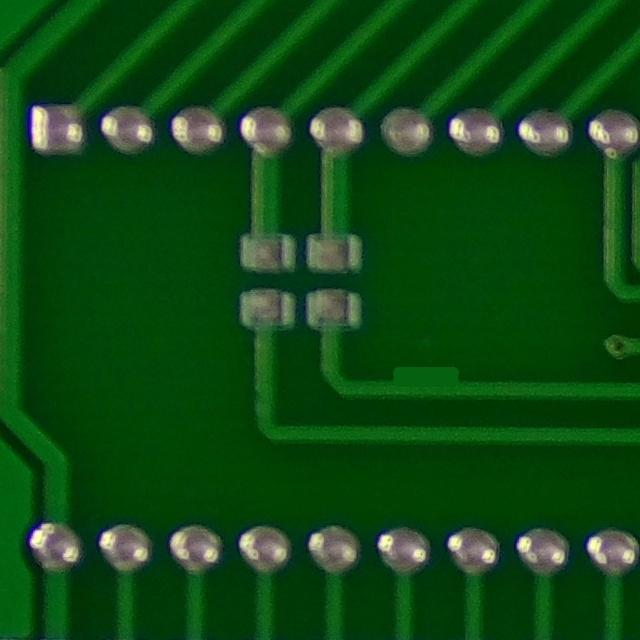spur: (373, 347, 477, 408)
